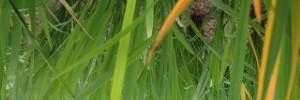RiceTungro: (252, 1, 300, 100), (142, 2, 190, 57)
